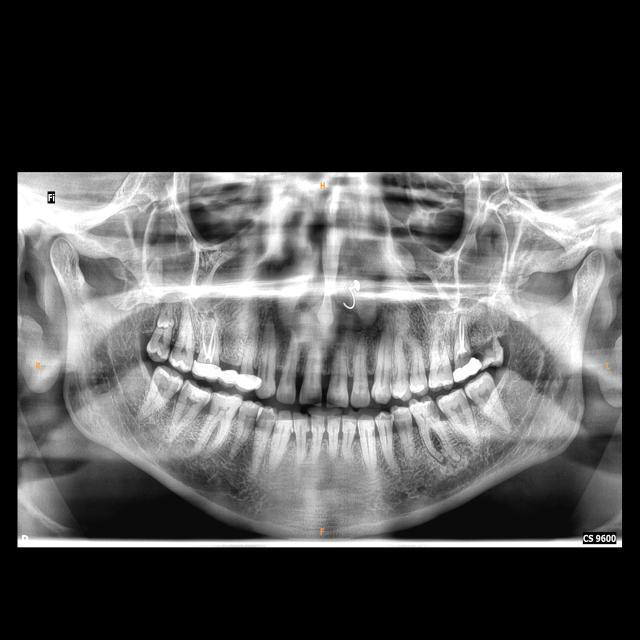dentin-curugu: (479, 338, 497, 364), (427, 401, 441, 421)
kanal-tedavisi: (196, 319, 222, 361), (454, 316, 467, 357)
kaplama: (454, 356, 481, 380), (192, 360, 221, 380), (240, 370, 260, 395)
kopru: (214, 360, 247, 388)
